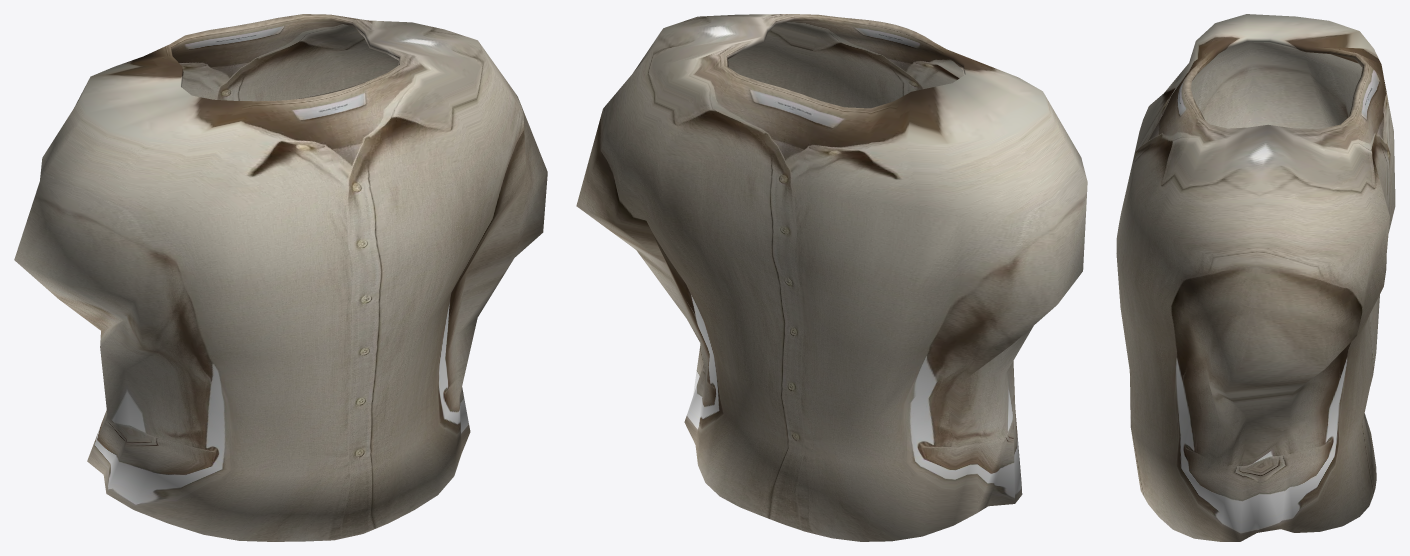
The picture shows the model from 3 angles, left to right: view 1: azimuth 30°, elevation 25°; view 2: azimuth 150°, elevation 25°; view 3: azimuth 270°, elevation 25°; orthographic projection. The views are drawn at different scales.
Visible parts, largest first — view 1: garment; view 2: garment; view 3: garment.
Boxes of the visible parts, x1=… form: garment: x1=14, y1=14, x2=547, y2=541; garment: x1=576, y1=14, x2=1087, y2=541; garment: x1=1116, y1=14, x2=1395, y2=541.
Bounding box in the file's own units: 0.586 × 0.4869 × 0.3057.
Materials: 1 (1 with a texture image).
